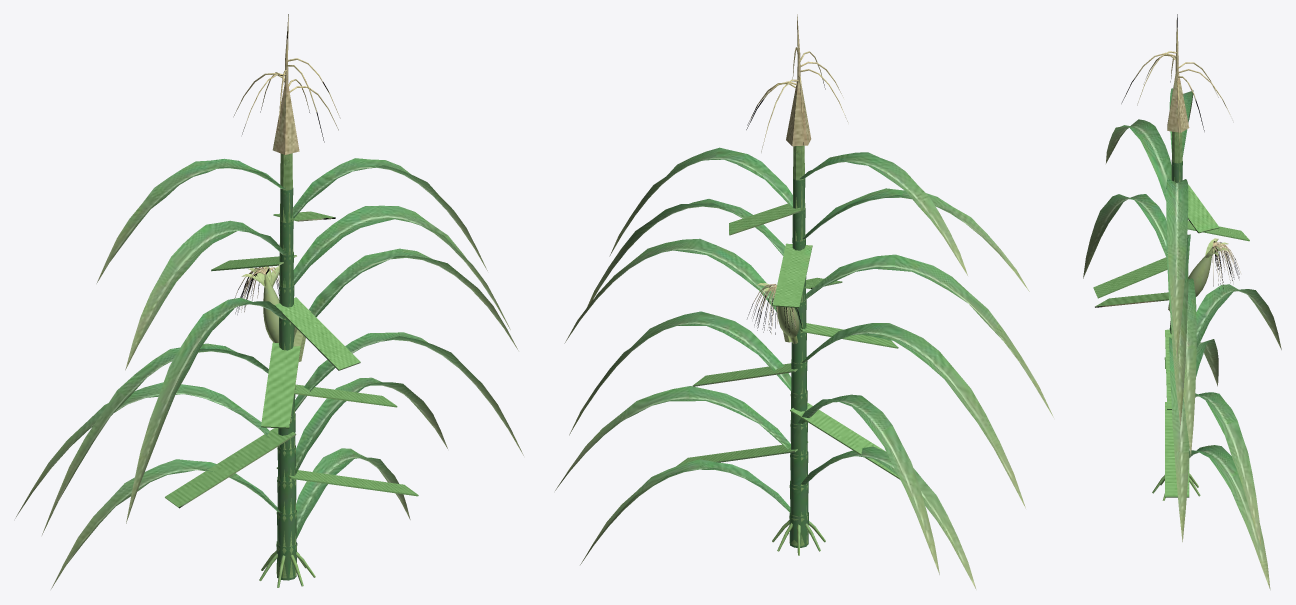
File: maiz.glb
The picture shows the model from 3 angles, left to right: view 1: azimuth 30°, elevation 25°; view 2: azimuth 150°, elevation 25°; view 3: azimuth 270°, elevation 25°; orthographic projection. The views are drawn at different scales.
Visible parts, largest first — view 1: maiz, maiz_lp; view 2: maiz, maiz_lp; view 3: maiz, maiz_lp.
Boxes of the visible parts, x1,y1,x2,y2 form: maiz: [15, 14, 523, 588]; maiz_lp: [165, 83, 418, 508]; maiz: [555, 14, 1053, 589]; maiz_lp: [676, 81, 899, 479]; maiz: [1083, 14, 1281, 589]; maiz_lp: [1093, 72, 1249, 497].
Bounding box in the file's own units: 2.36 × 2.74 × 0.9824.
2 materials, 2 textured.
